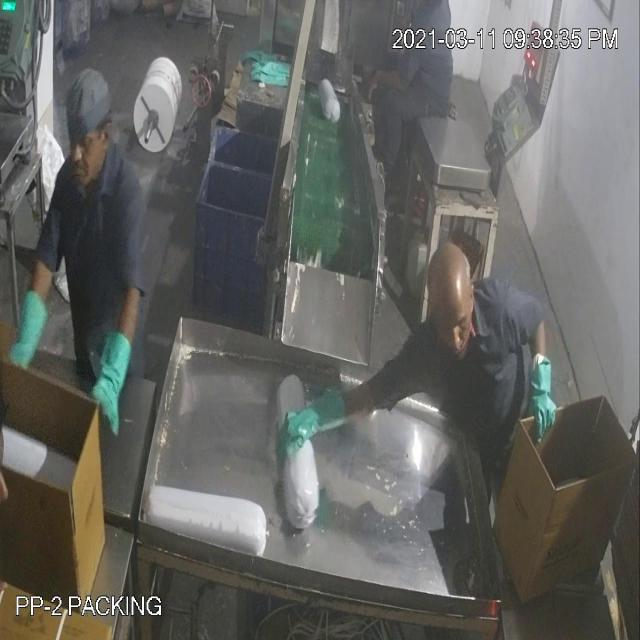gloves: (266, 353, 342, 483), (92, 309, 132, 443), (11, 282, 53, 394)
